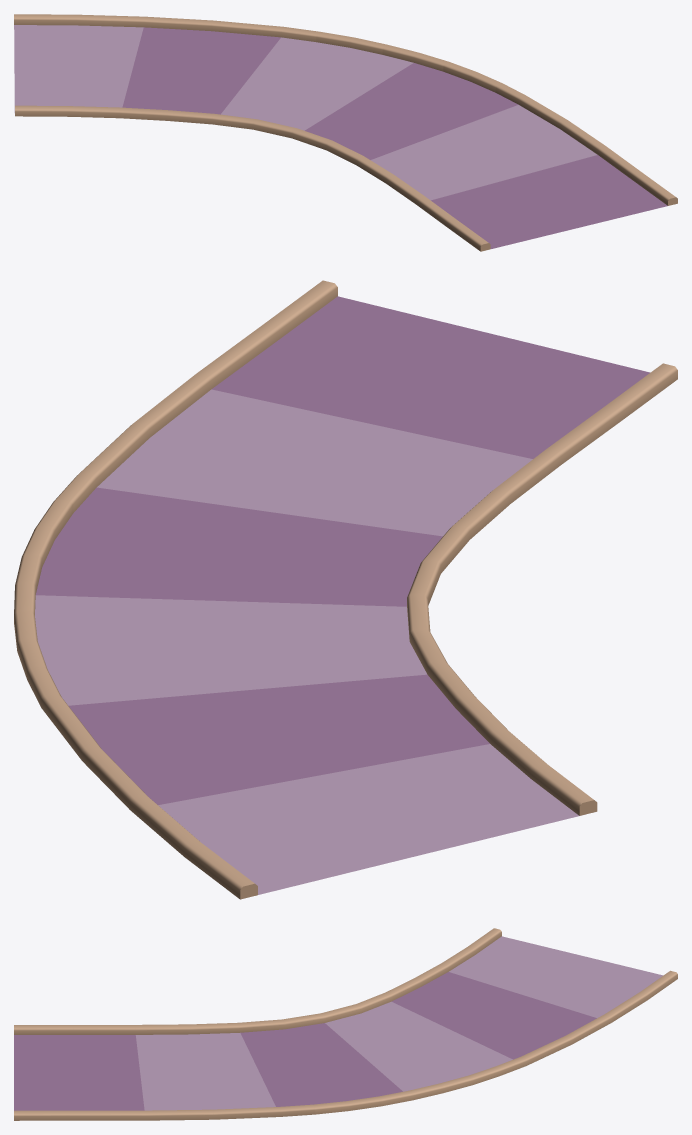
The model's file is LuffyRoad_60.fbx.
3 renders of one model, top to bottom at view 1: azimuth 30°, elevation 25°; view 2: azimuth 150°, elevation 25°; view 3: azimuth 270°, elevation 25°, orthographic. The views are drawn at different scales.
Parts seen in each view (by area): view 1: LUFFY_Road_60, LUFFY_Road_66, LUFFY_Road_63, LUFFY_Road_65, LUFFY_Road_62, LUFFY_Road_64, LUFFY_Road_61; view 2: LUFFY_Road_66, LUFFY_Road_63, LUFFY_Road_65, LUFFY_Road_62, LUFFY_Road_60, LUFFY_Road_64, LUFFY_Road_61; view 3: LUFFY_Road_60, LUFFY_Road_66, LUFFY_Road_63, LUFFY_Road_61, LUFFY_Road_64, LUFFY_Road_65, LUFFY_Road_62.
Boxes of the visible parts, x1=… form: LUFFY_Road_60: x1=14, y1=14, x2=677, y2=251; LUFFY_Road_66: x1=431, y1=155, x2=667, y2=248; LUFFY_Road_63: x1=371, y1=105, x2=597, y2=200; LUFFY_Road_65: x1=305, y1=63, x2=518, y2=159; LUFFY_Road_62: x1=221, y1=37, x2=413, y2=130; LUFFY_Road_64: x1=122, y1=27, x2=280, y2=114; LUFFY_Road_61: x1=14, y1=25, x2=143, y2=112; LUFFY_Road_66: x1=211, y1=296, x2=650, y2=458; LUFFY_Road_63: x1=97, y1=389, x2=532, y2=536; LUFFY_Road_65: x1=36, y1=487, x2=442, y2=606; LUFFY_Road_62: x1=35, y1=595, x2=427, y2=705; LUFFY_Road_60: x1=14, y1=280, x2=677, y2=899; LUFFY_Road_64: x1=68, y1=674, x2=489, y2=804; LUFFY_Road_61: x1=158, y1=744, x2=578, y2=894; LUFFY_Road_60: x1=14, y1=928, x2=677, y2=1120; LUFFY_Road_66: x1=14, y1=1035, x2=144, y2=1110; LUFFY_Road_63: x1=135, y1=1033, x2=275, y2=1110; LUFFY_Road_61: x1=449, y1=936, x2=663, y2=1018; LUFFY_Road_64: x1=391, y1=972, x2=596, y2=1059; LUFFY_Road_65: x1=240, y1=1023, x2=402, y2=1106; LUFFY_Road_62: x1=325, y1=1001, x2=512, y2=1091.
Bounding box in the file's own units: 1241 × 19.65 × 1865.
